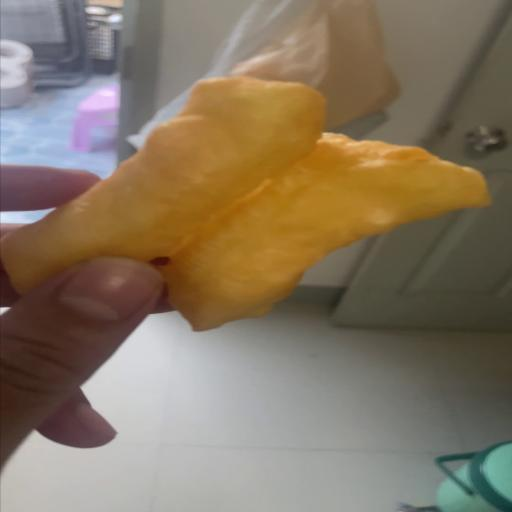street_golden_good: (0, 77, 490, 331)
